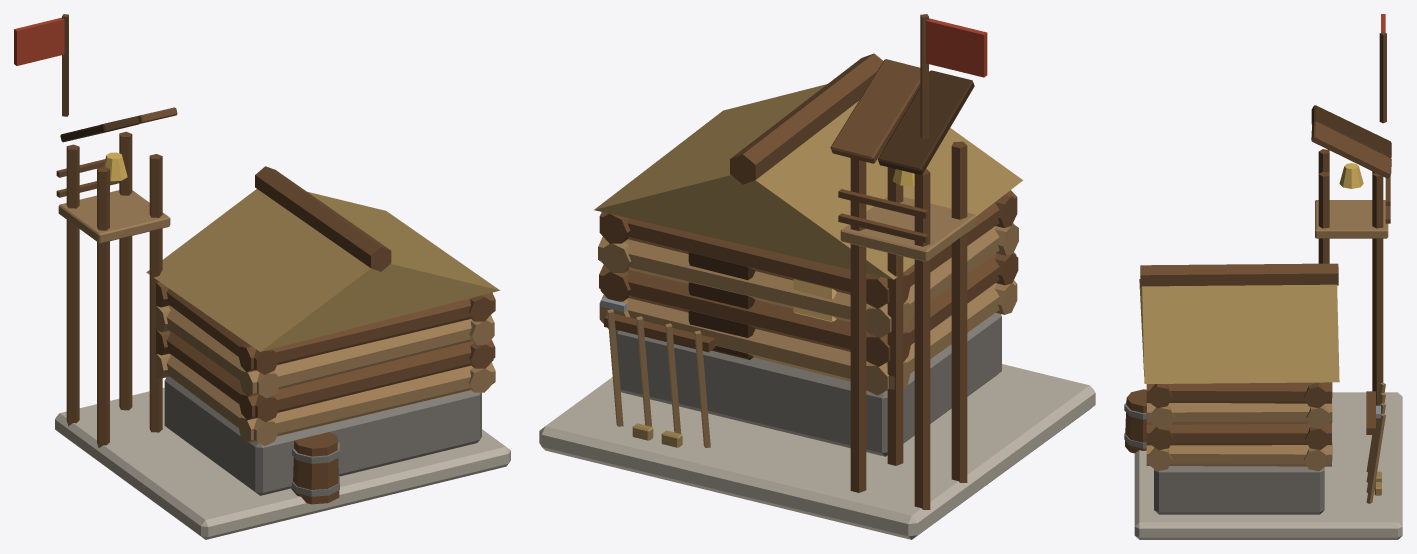
File: guardhouse.fbx
3 renders of one model, left to right at view 1: azimuth 30°, elevation 25°; view 2: azimuth 150°, elevation 25°; view 3: azimuth 270°, elevation 25°, orthographic. The views are drawn at different scales.
Visible parts, largest first — view 1: Building, Banner; view 2: Building, Banner; view 3: Building, Banner.
Part boxes in pixels (x1,y1,x2,y2): Building: (55, 107, 510, 539); Banner: (14, 14, 68, 116); Building: (539, 53, 1095, 539); Banner: (920, 14, 987, 139); Building: (1124, 105, 1402, 539); Banner: (1379, 14, 1386, 123).
Bounding box in the file's own units: 1.5 × 1.14 × 1.7.
